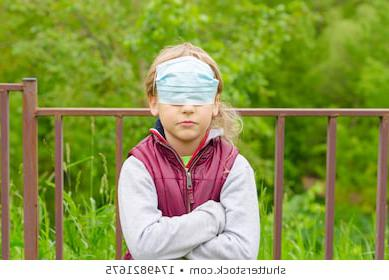mask_weared_incorrect: (157, 64, 217, 139)
